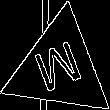M_S: (31, 36, 88, 100)
